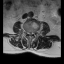CCS_normal: (29, 30, 31, 38)
LFS_normal: (32, 30, 35, 36)
LLS_stenosis: (31, 30, 33, 37)
RFS_normal: (25, 29, 27, 36)
RLS_stenosis: (27, 30, 29, 37)
